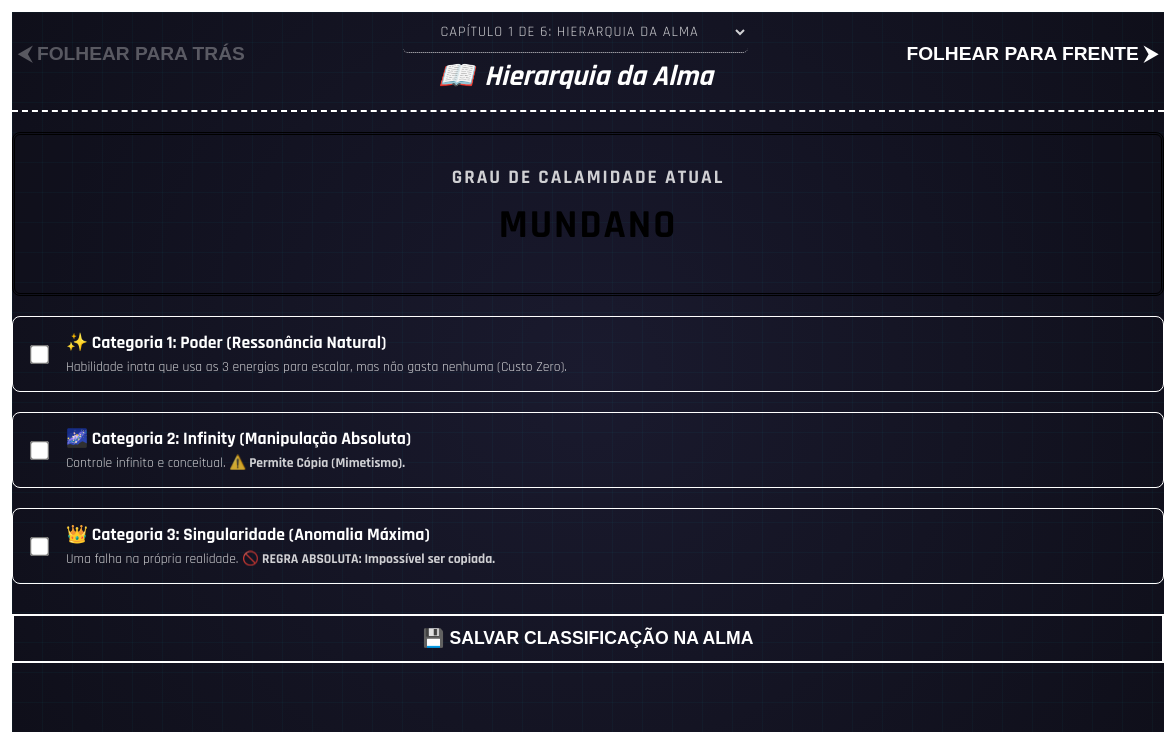
Scenario: ClassificacaoPanel — Reator de Ressonância não lança ReferenceError ao abrir › abrir o capítulo "Reator de Ressonância" não lança erro e mostra a soma de Mana+Aura+Chakra
Select "CAPÍTULO 4 DE 6: REATOR DE RESSONÂNCIA" in the dropdown at (576, 32), box [403,12,748,53]
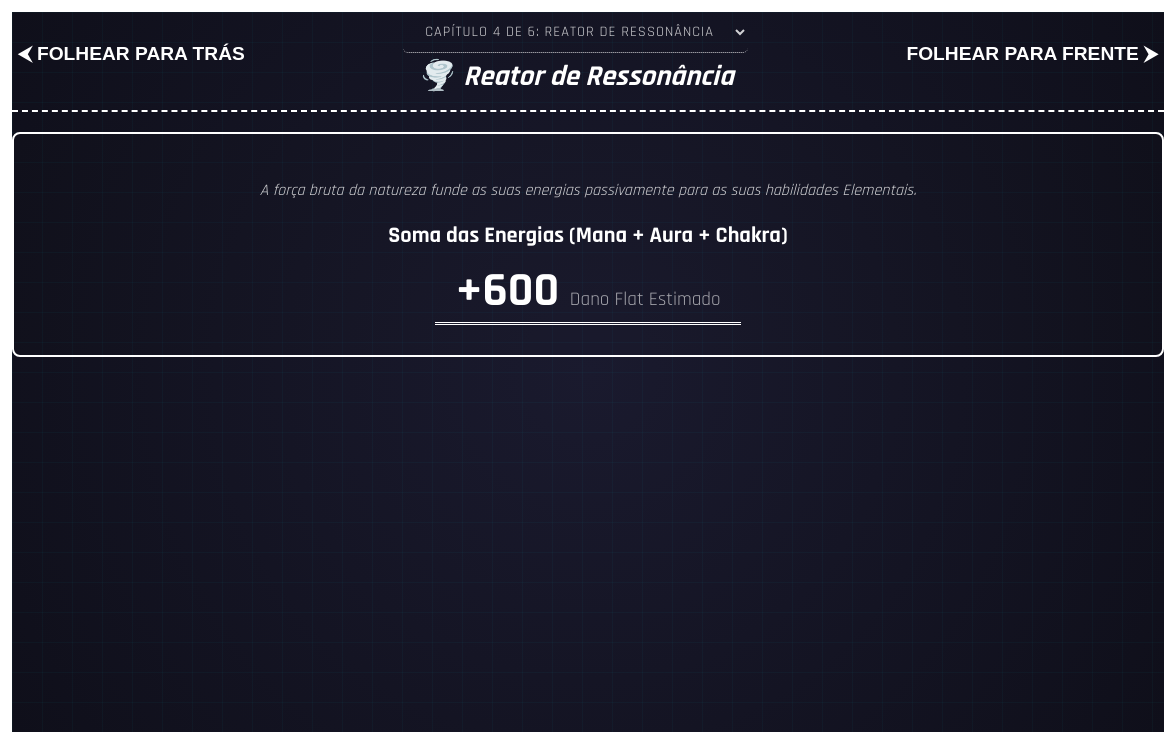
Expected: the text "+600" is shown, [436,260,740,325]
